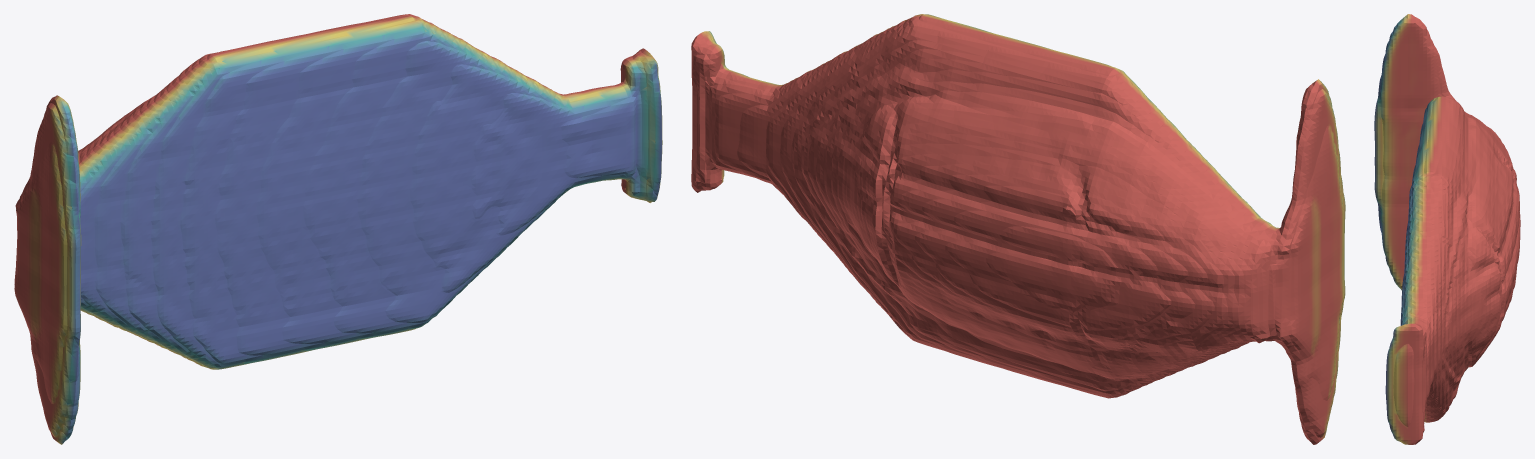
Rendered from 83fe928d-aaeb-4a76-8d62-ce90ca80da64.heatmap.glb.
The picture shows the model from 3 angles, left to right: view 1: azimuth 30°, elevation 25°; view 2: azimuth 150°, elevation 25°; view 3: azimuth 270°, elevation 25°; orthographic projection. The views are drawn at different scales.
Parts seen in each view (by area): view 1: world; view 2: world; view 3: world.
Part boxes in pixels (box(x1,y1,x2,y2)): world: box(14, 14, 662, 444); world: box(691, 14, 1345, 444); world: box(1374, 14, 1520, 444).
Size of the model in its own units: 54.86 by 30 by 14.23.
